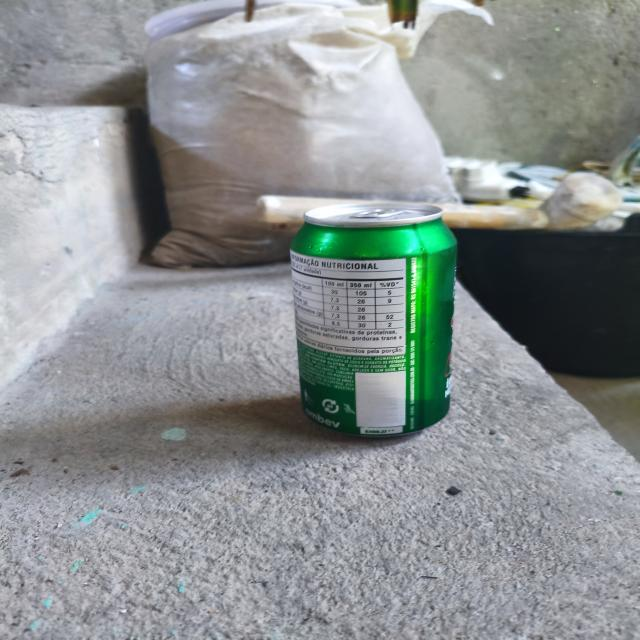Guarana: (262, 199, 480, 433)
